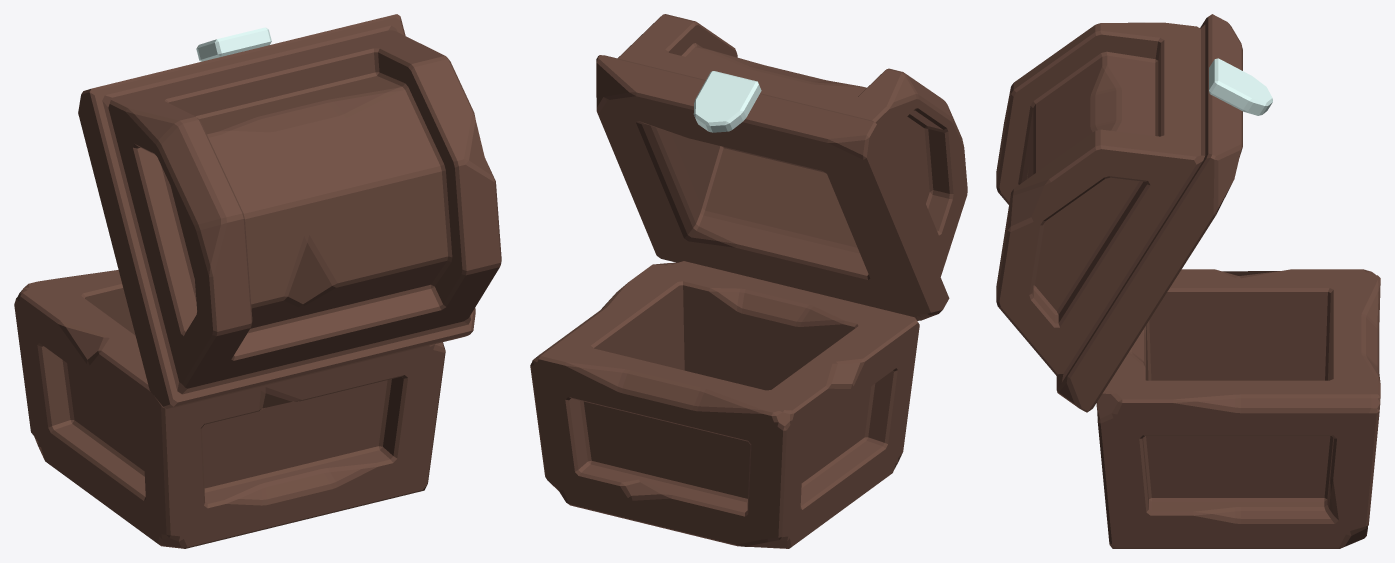
Rendered from Chest_Block_S2.fbx.
3 renders of one model, left to right at view 1: azimuth 30°, elevation 25°; view 2: azimuth 150°, elevation 25°; view 3: azimuth 270°, elevation 25°, orthographic. The views are drawn at different scales.
Parts seen in each view (by area): view 1: Chset; view 2: Chset; view 3: Chset.
Boxes of the visible parts, x1,y1,x2,y2 form: Chset: (14,14,501,548); Chset: (530,14,967,548); Chset: (996,14,1380,548).
Bounding box in the file's own units: 2370 × 3257 × 2694.
